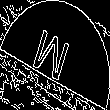M_SW: (33, 23, 77, 87)
